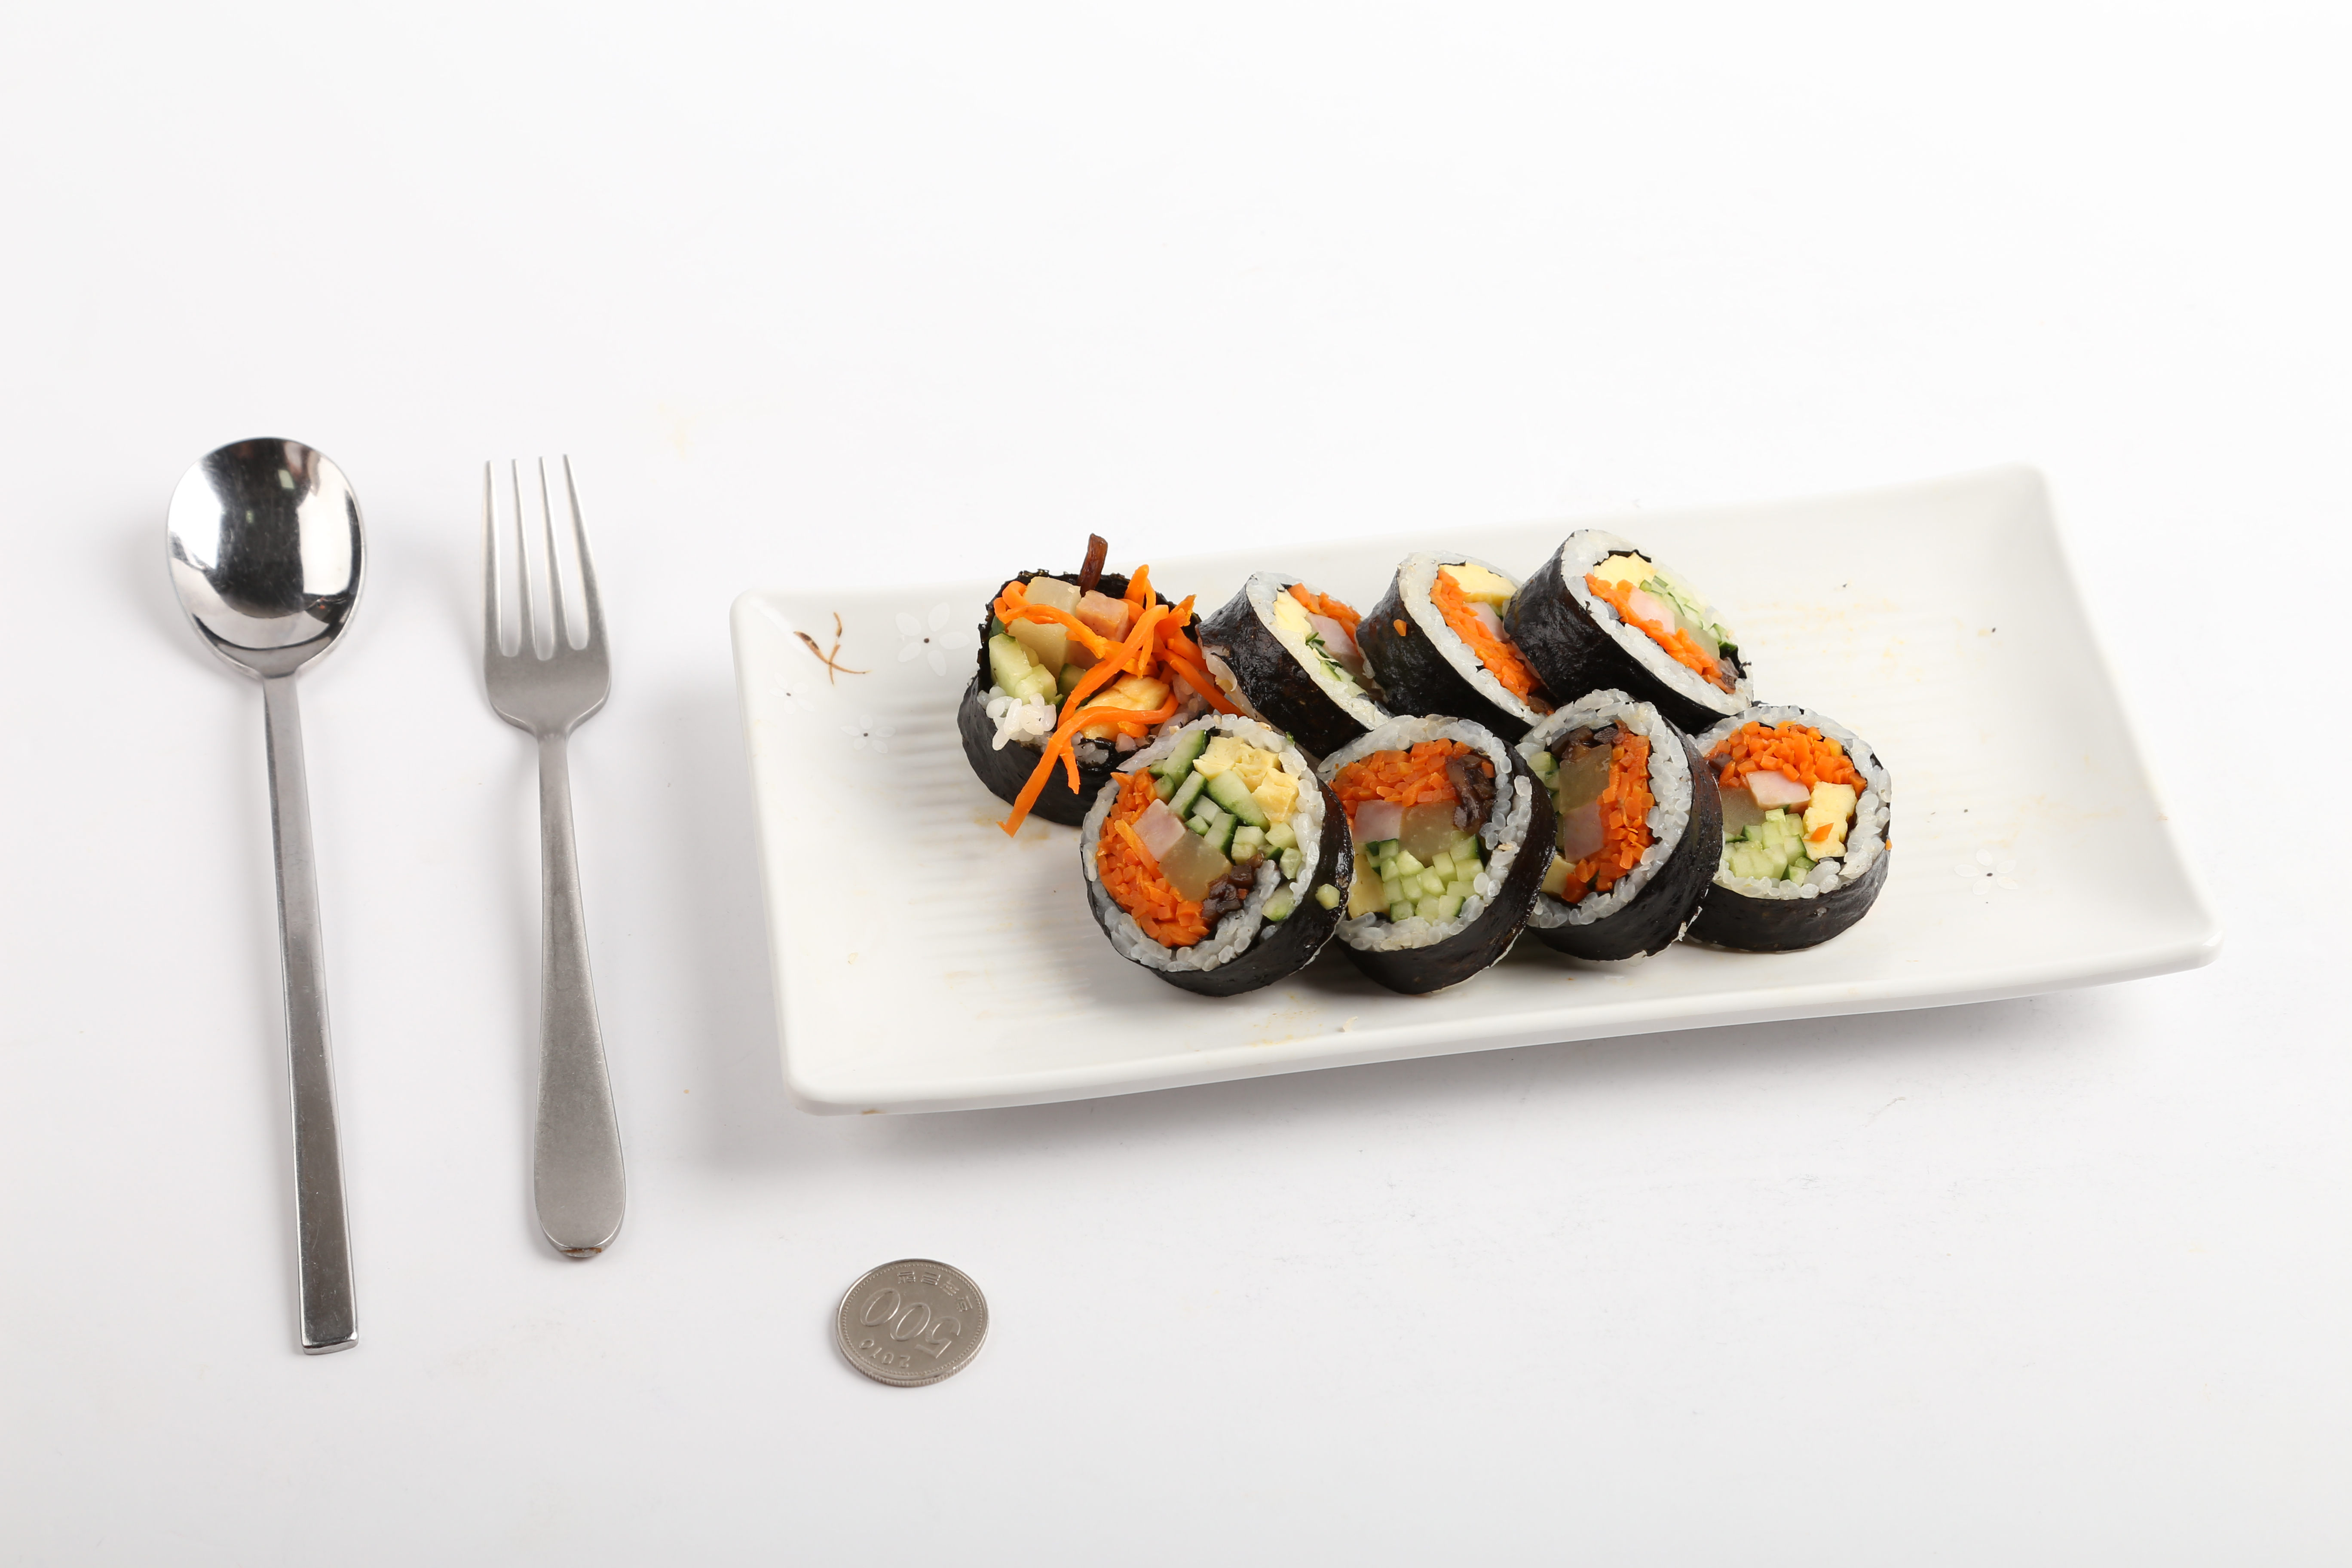dish: (724, 460, 2229, 1123)
ref_coin: (824, 1255, 987, 1393)
ref_fork: (474, 455, 618, 801)
ref_spoon: (156, 434, 366, 728)
김밥: (954, 514, 1893, 1004)
